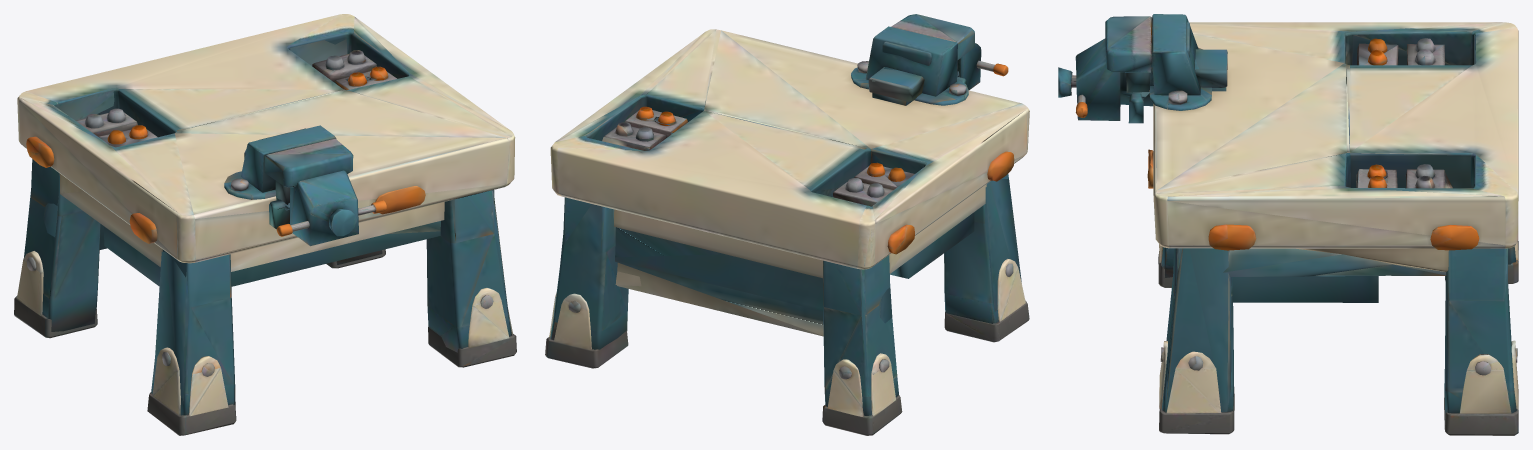
File: workbench-lod0.63311ebaf182.glb
The picture shows the model from 3 angles, left to right: view 1: azimuth 30°, elevation 25°; view 2: azimuth 150°, elevation 25°; view 3: azimuth 270°, elevation 25°; orthographic projection. The views are drawn at different scales.
Visible parts, largest first — view 1: geometry_0; view 2: geometry_0; view 3: geometry_0.
Boxes of the visible parts, x1,y1,x2,y2 form: geometry_0: (14, 14, 516, 435); geometry_0: (545, 14, 1029, 435); geometry_0: (1058, 14, 1518, 435).
Bounding box in the file's own units: 0.9384 × 0.6865 × 1.
Materials: 1 (1 with a texture image).
